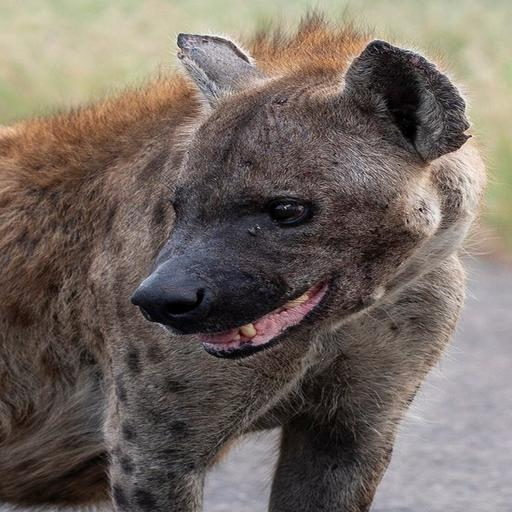Hyena: (0, 0, 493, 512)
